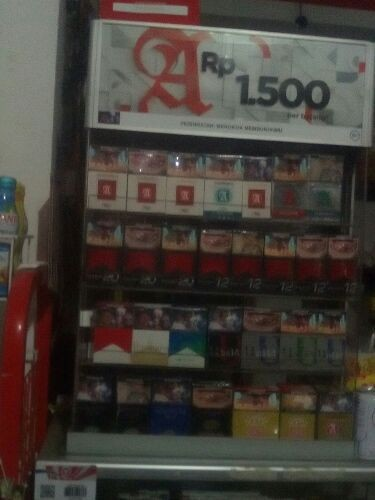A Mild: (89, 144, 126, 208), (129, 148, 165, 211), (168, 151, 203, 214), (244, 156, 270, 215)
U Mild: (280, 309, 313, 367), (245, 307, 278, 364), (314, 308, 345, 367)
